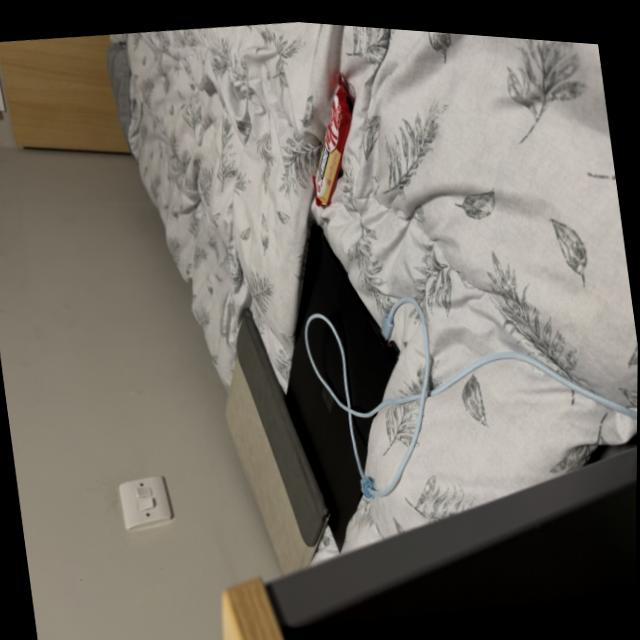chocolate: (291, 55, 372, 211)
